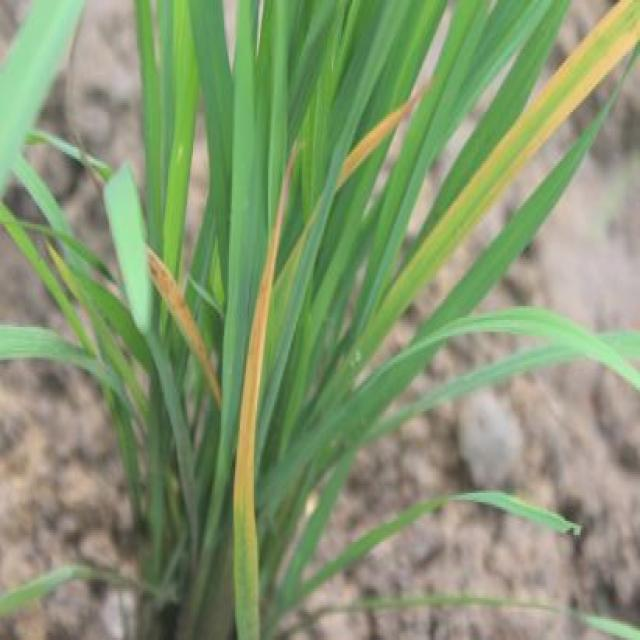Tungro: (442, 1, 640, 255), (231, 133, 295, 640), (229, 184, 282, 640), (327, 83, 431, 197), (550, 7, 640, 134)
